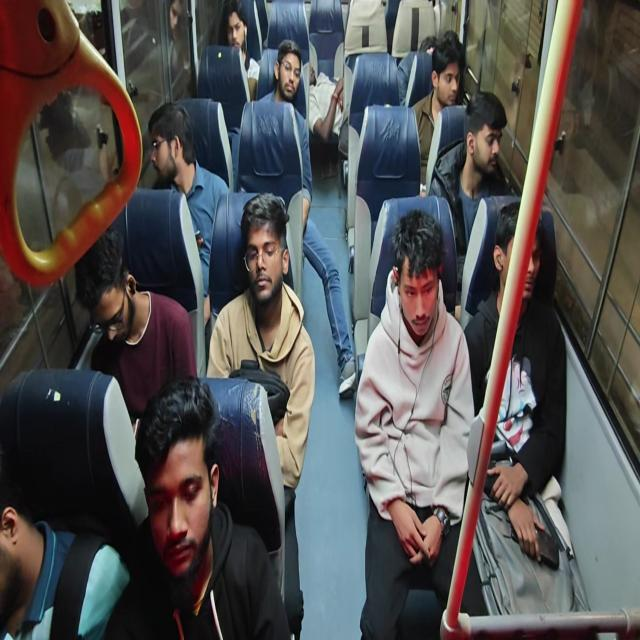person: (118, 373, 248, 640), (358, 225, 460, 355), (0, 430, 61, 640), (128, 102, 223, 232), (477, 201, 551, 360), (217, 188, 290, 331), (78, 240, 141, 394), (302, 48, 356, 165), (258, 28, 318, 128), (464, 78, 507, 182), (431, 34, 476, 127), (219, 10, 253, 52), (418, 26, 444, 78)
